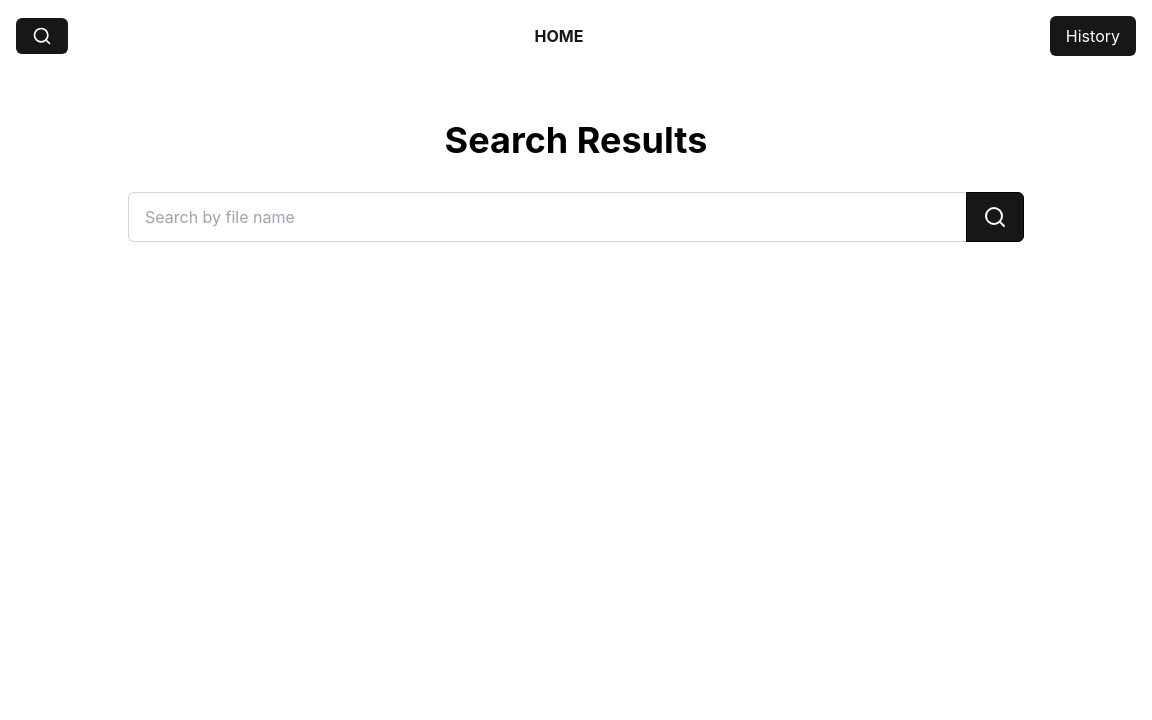
Scenario: Search Component › displays search results when search is successful
In the field with placeholder "Search by file name": (547, 217) [128,192,966,242], type "test"
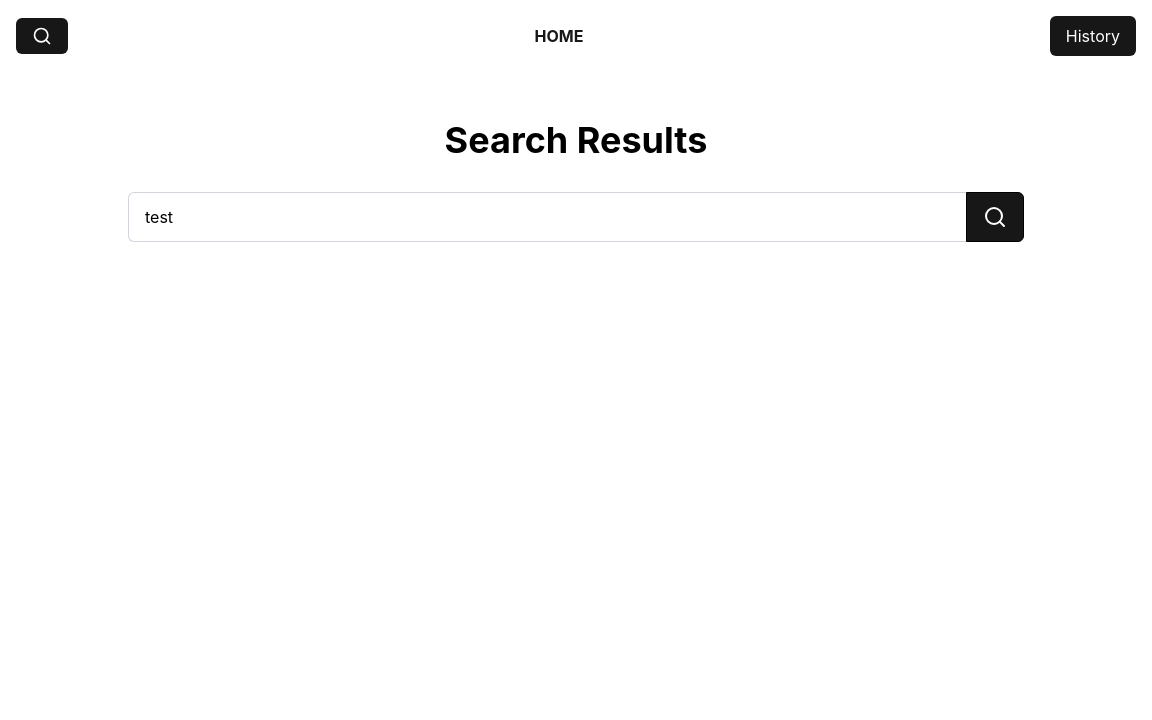
Click the button named "search": (995, 217) [966,192,1024,242]
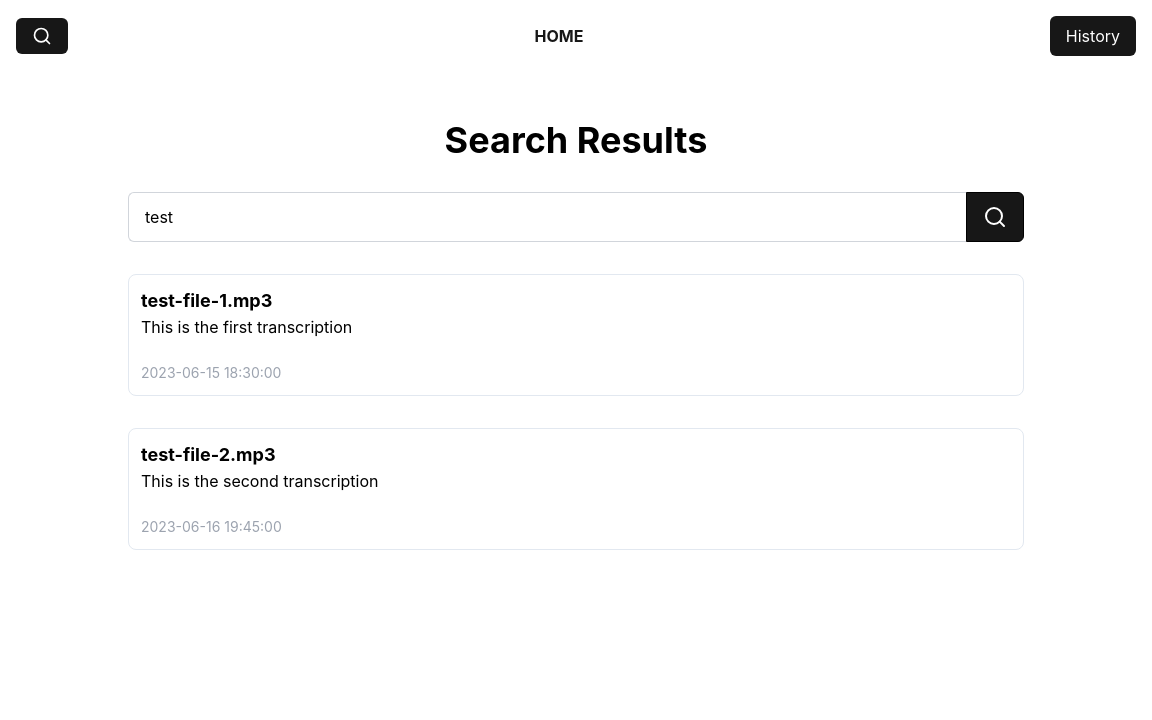
expect the text "test-file-1.mp3" is shown: met, box [141,290,272,311]
expect the text "test-file-2.mp3" is shown: met, box [141,444,276,465]
expect the text "This is the first transcription" is shown: met, box [141,317,352,337]
